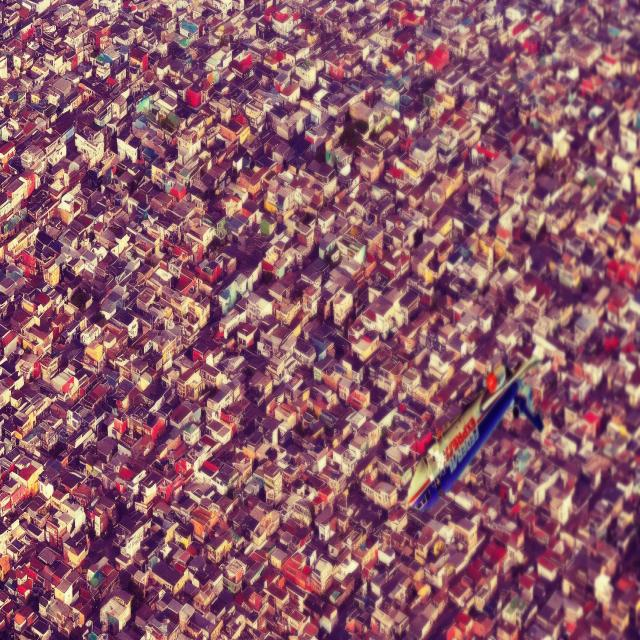airplane: (404, 347, 545, 513)
